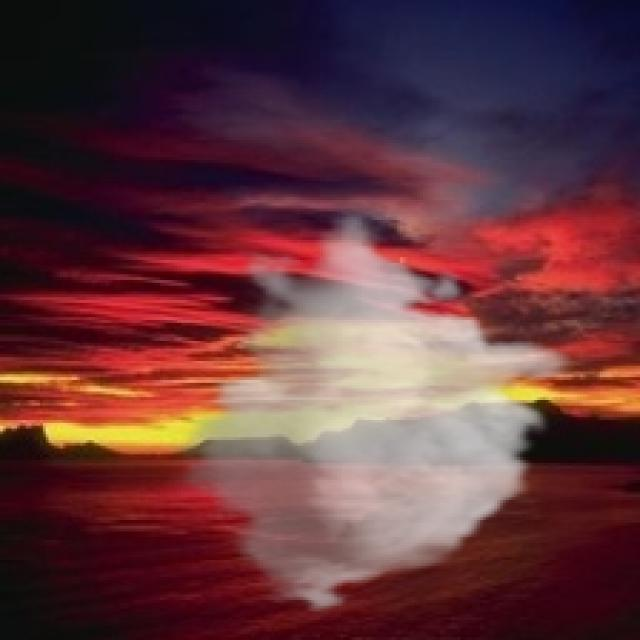smoke: (169, 209, 577, 614)
